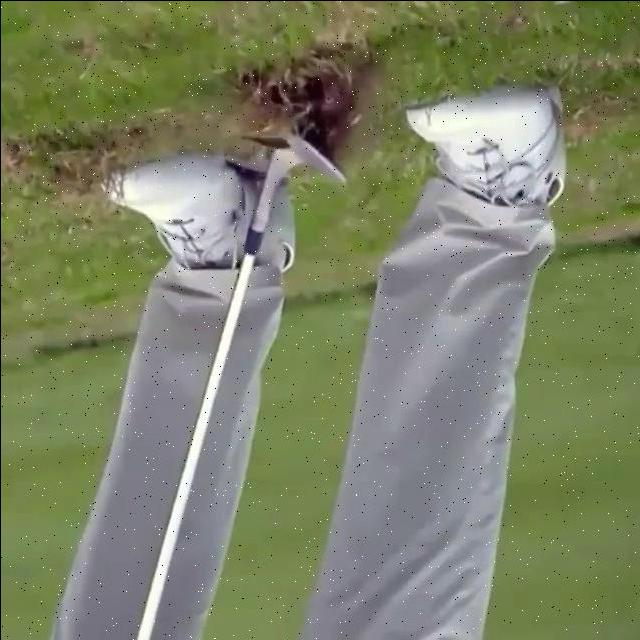ClubHandle: (137, 132, 349, 640)
ClubHead: (282, 135, 350, 184)
